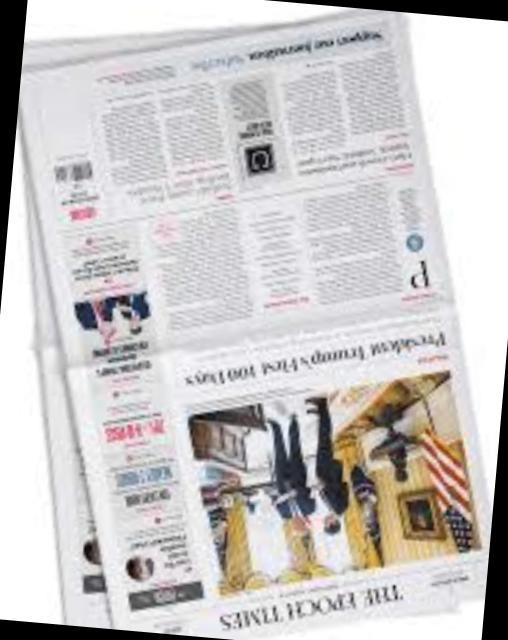cardboard paper: (18, 12, 492, 640)
